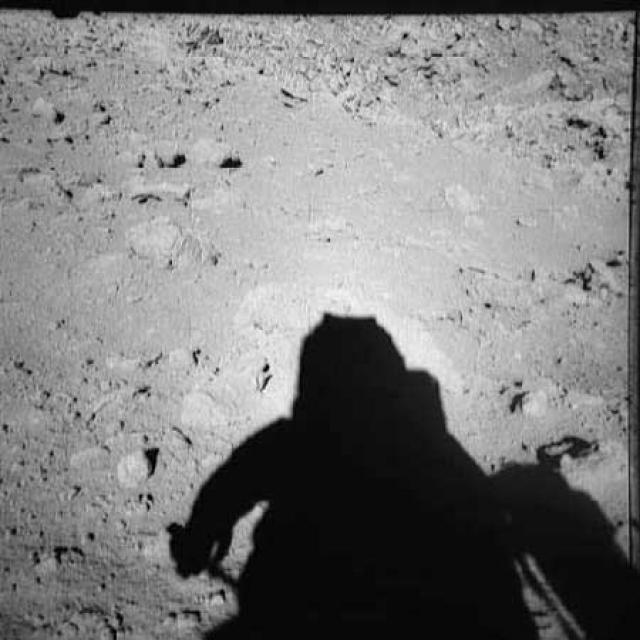rock: (121, 210, 206, 272), (105, 434, 171, 488), (193, 128, 258, 181), (30, 542, 96, 585), (122, 133, 184, 177), (51, 596, 115, 638), (151, 594, 196, 638), (20, 87, 64, 130), (30, 47, 59, 80)
